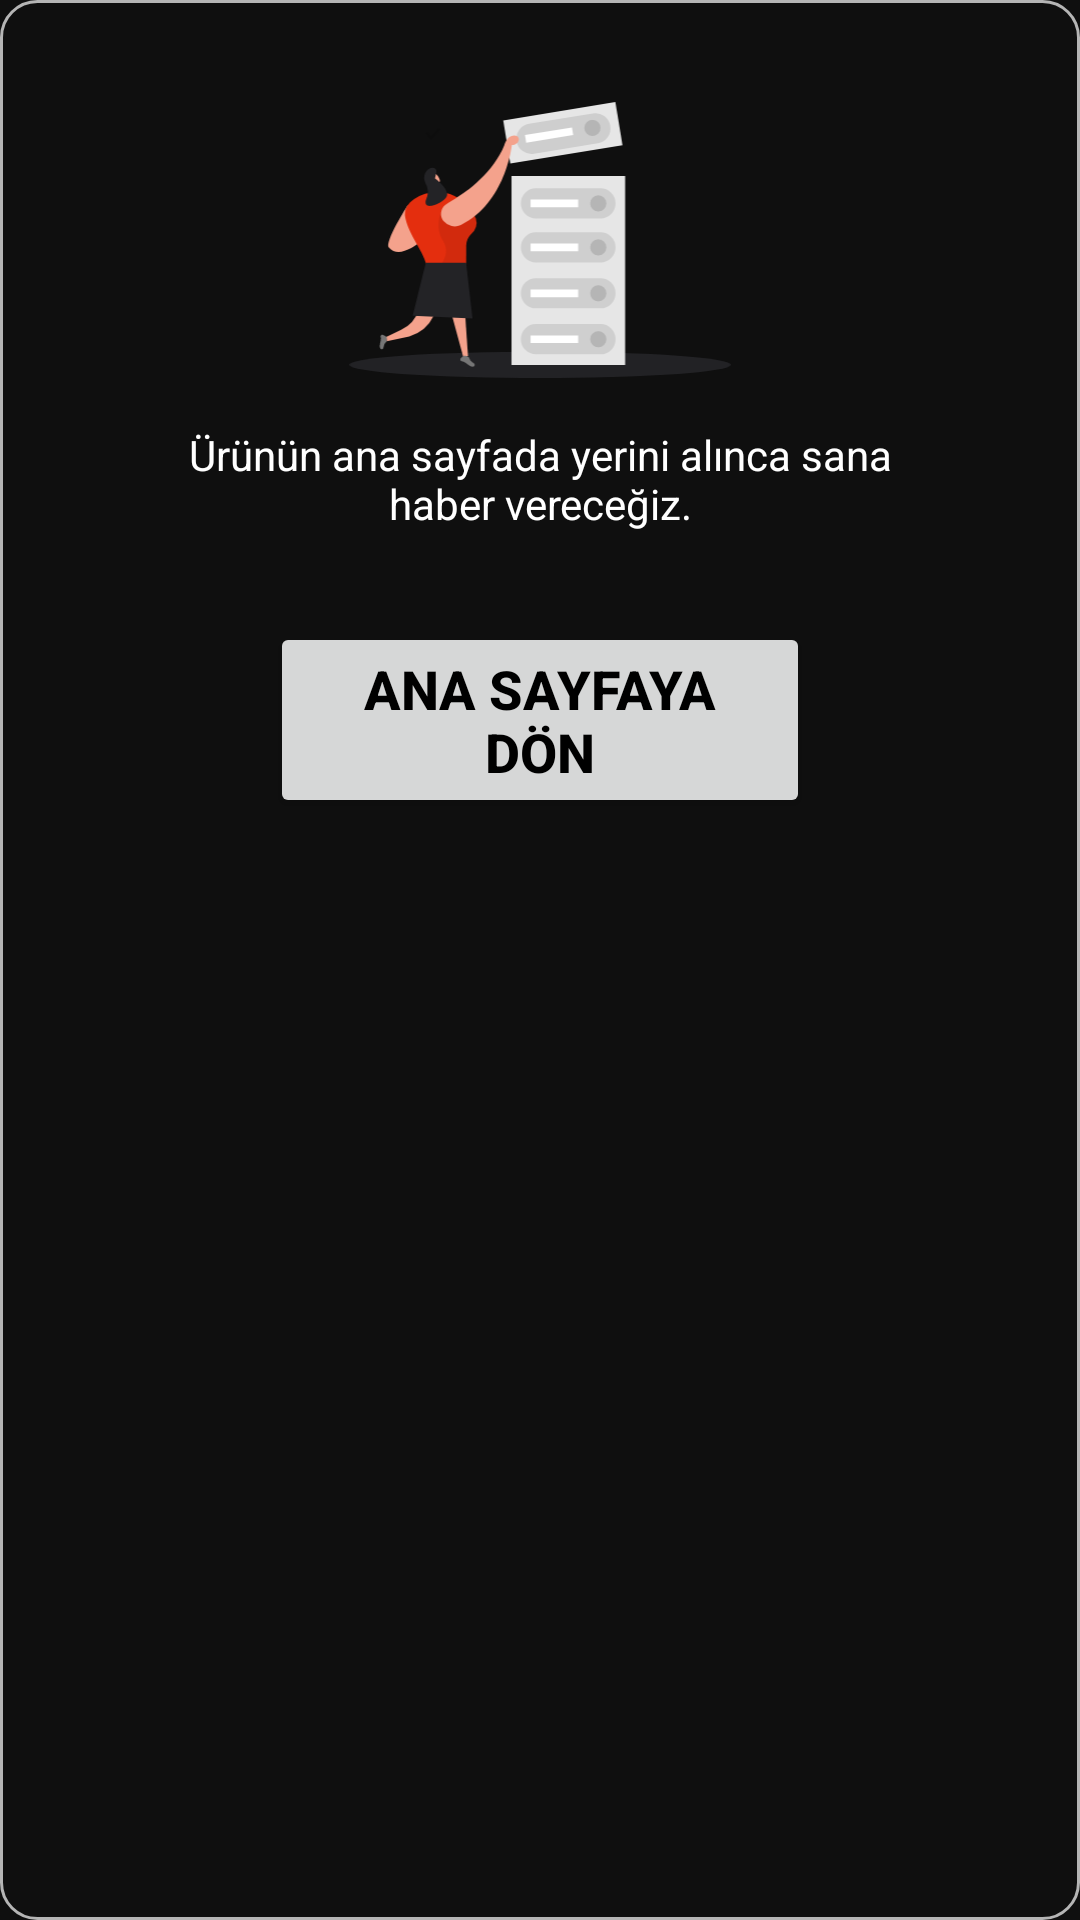

Locate icon controls on the screen. Image size 1080 × 1920, boxes as bbox=(x1, y1, x2, y2).
illustration addlsit: bbox=(379, 102, 626, 367)
